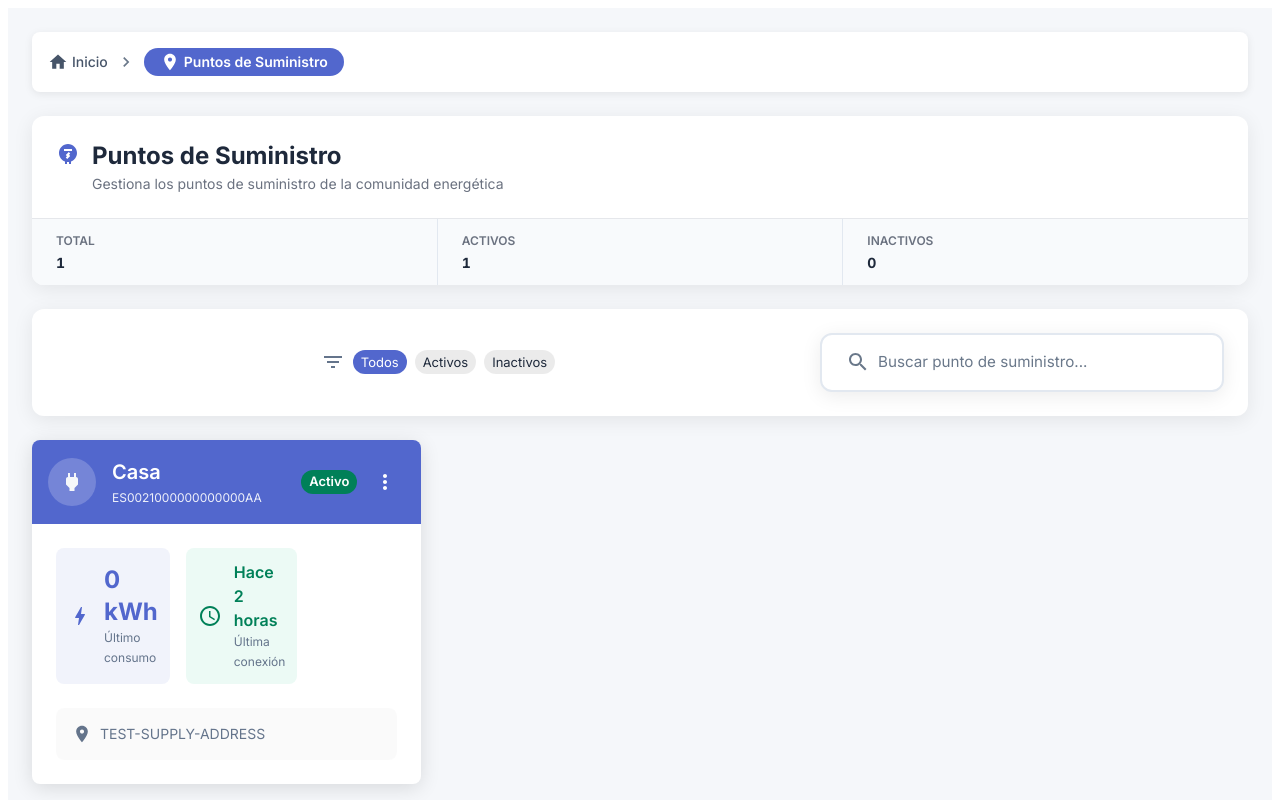
Test: SupplyPointsPage › UI-SUP-001 Eliminar punto de suministro on the card menu › UI-SUP-001 is offered for a supply that reports canDelete
What coordinates should you click on to do the following:
click the button named "Más acciones para Casa"
I would click on:
 (385, 482)
Its box is left=365, top=462, right=405, bottom=502.
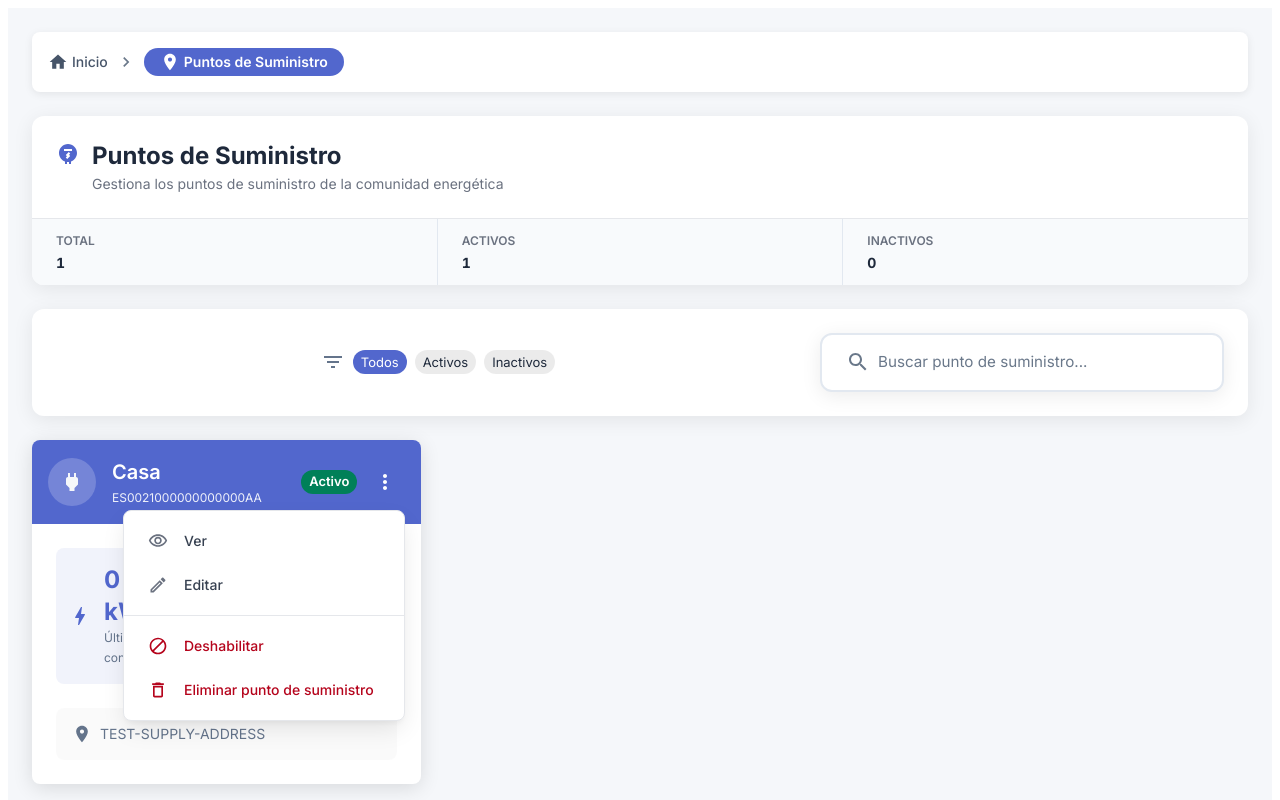
Expected: the menu item "Eliminar punto de suministro" is shown, left=148, top=680, right=374, bottom=700
